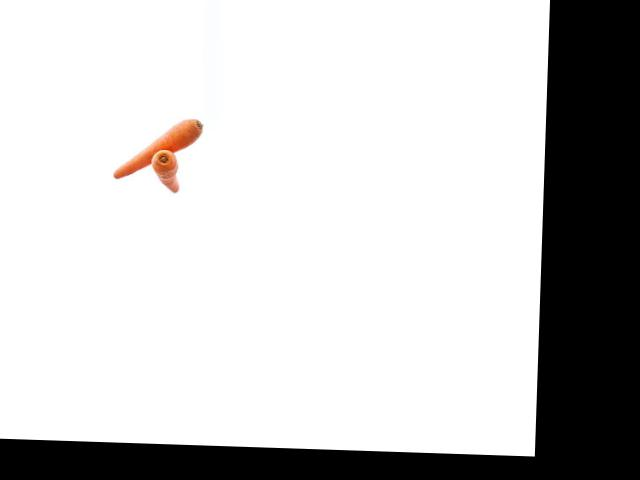carrot: (150, 146, 185, 195)
